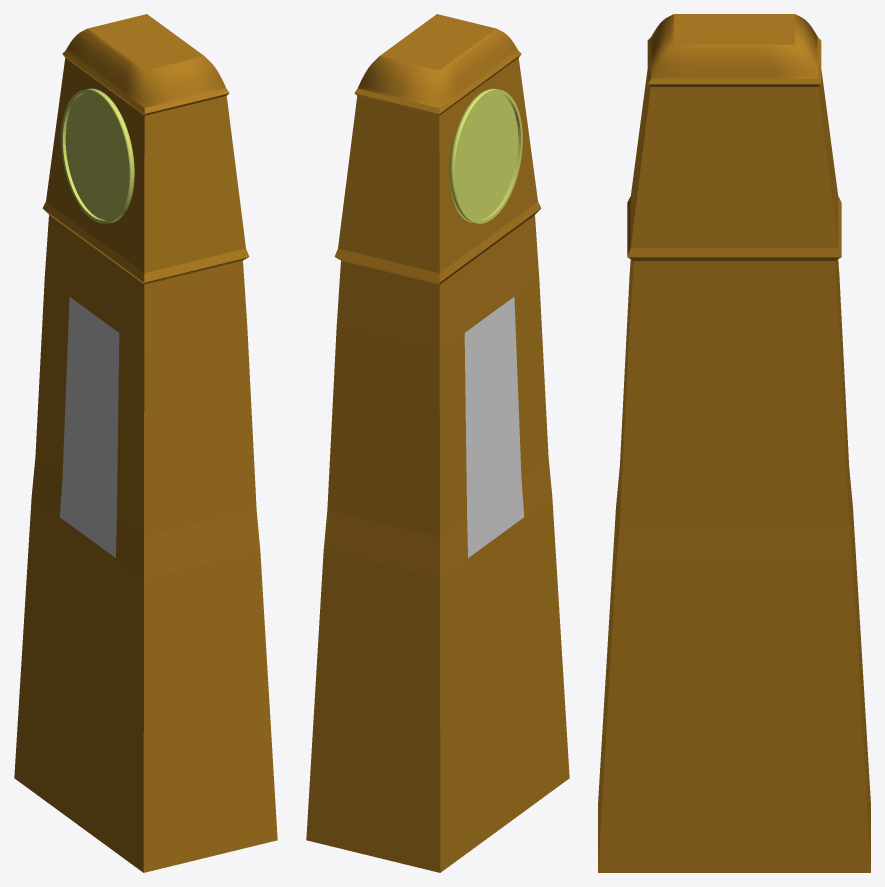
Rendered from Clocks.fbx.
3 renders of one model, left to right at view 1: azimuth 30°, elevation 25°; view 2: azimuth 150°, elevation 25°; view 3: azimuth 270°, elevation 25°, orthographic. The views are drawn at different scales.
Parts seen in each view (by area): view 1: Плоскость; view 2: Плоскость; view 3: Плоскость.
Boxes of the visible parts, x1,y1,x2,y2 form: Плоскость: (14,14,277,872); Плоскость: (306,14,569,872); Плоскость: (598,14,870,872).
Size of the model in its own units: 120 by 654 by 200.
